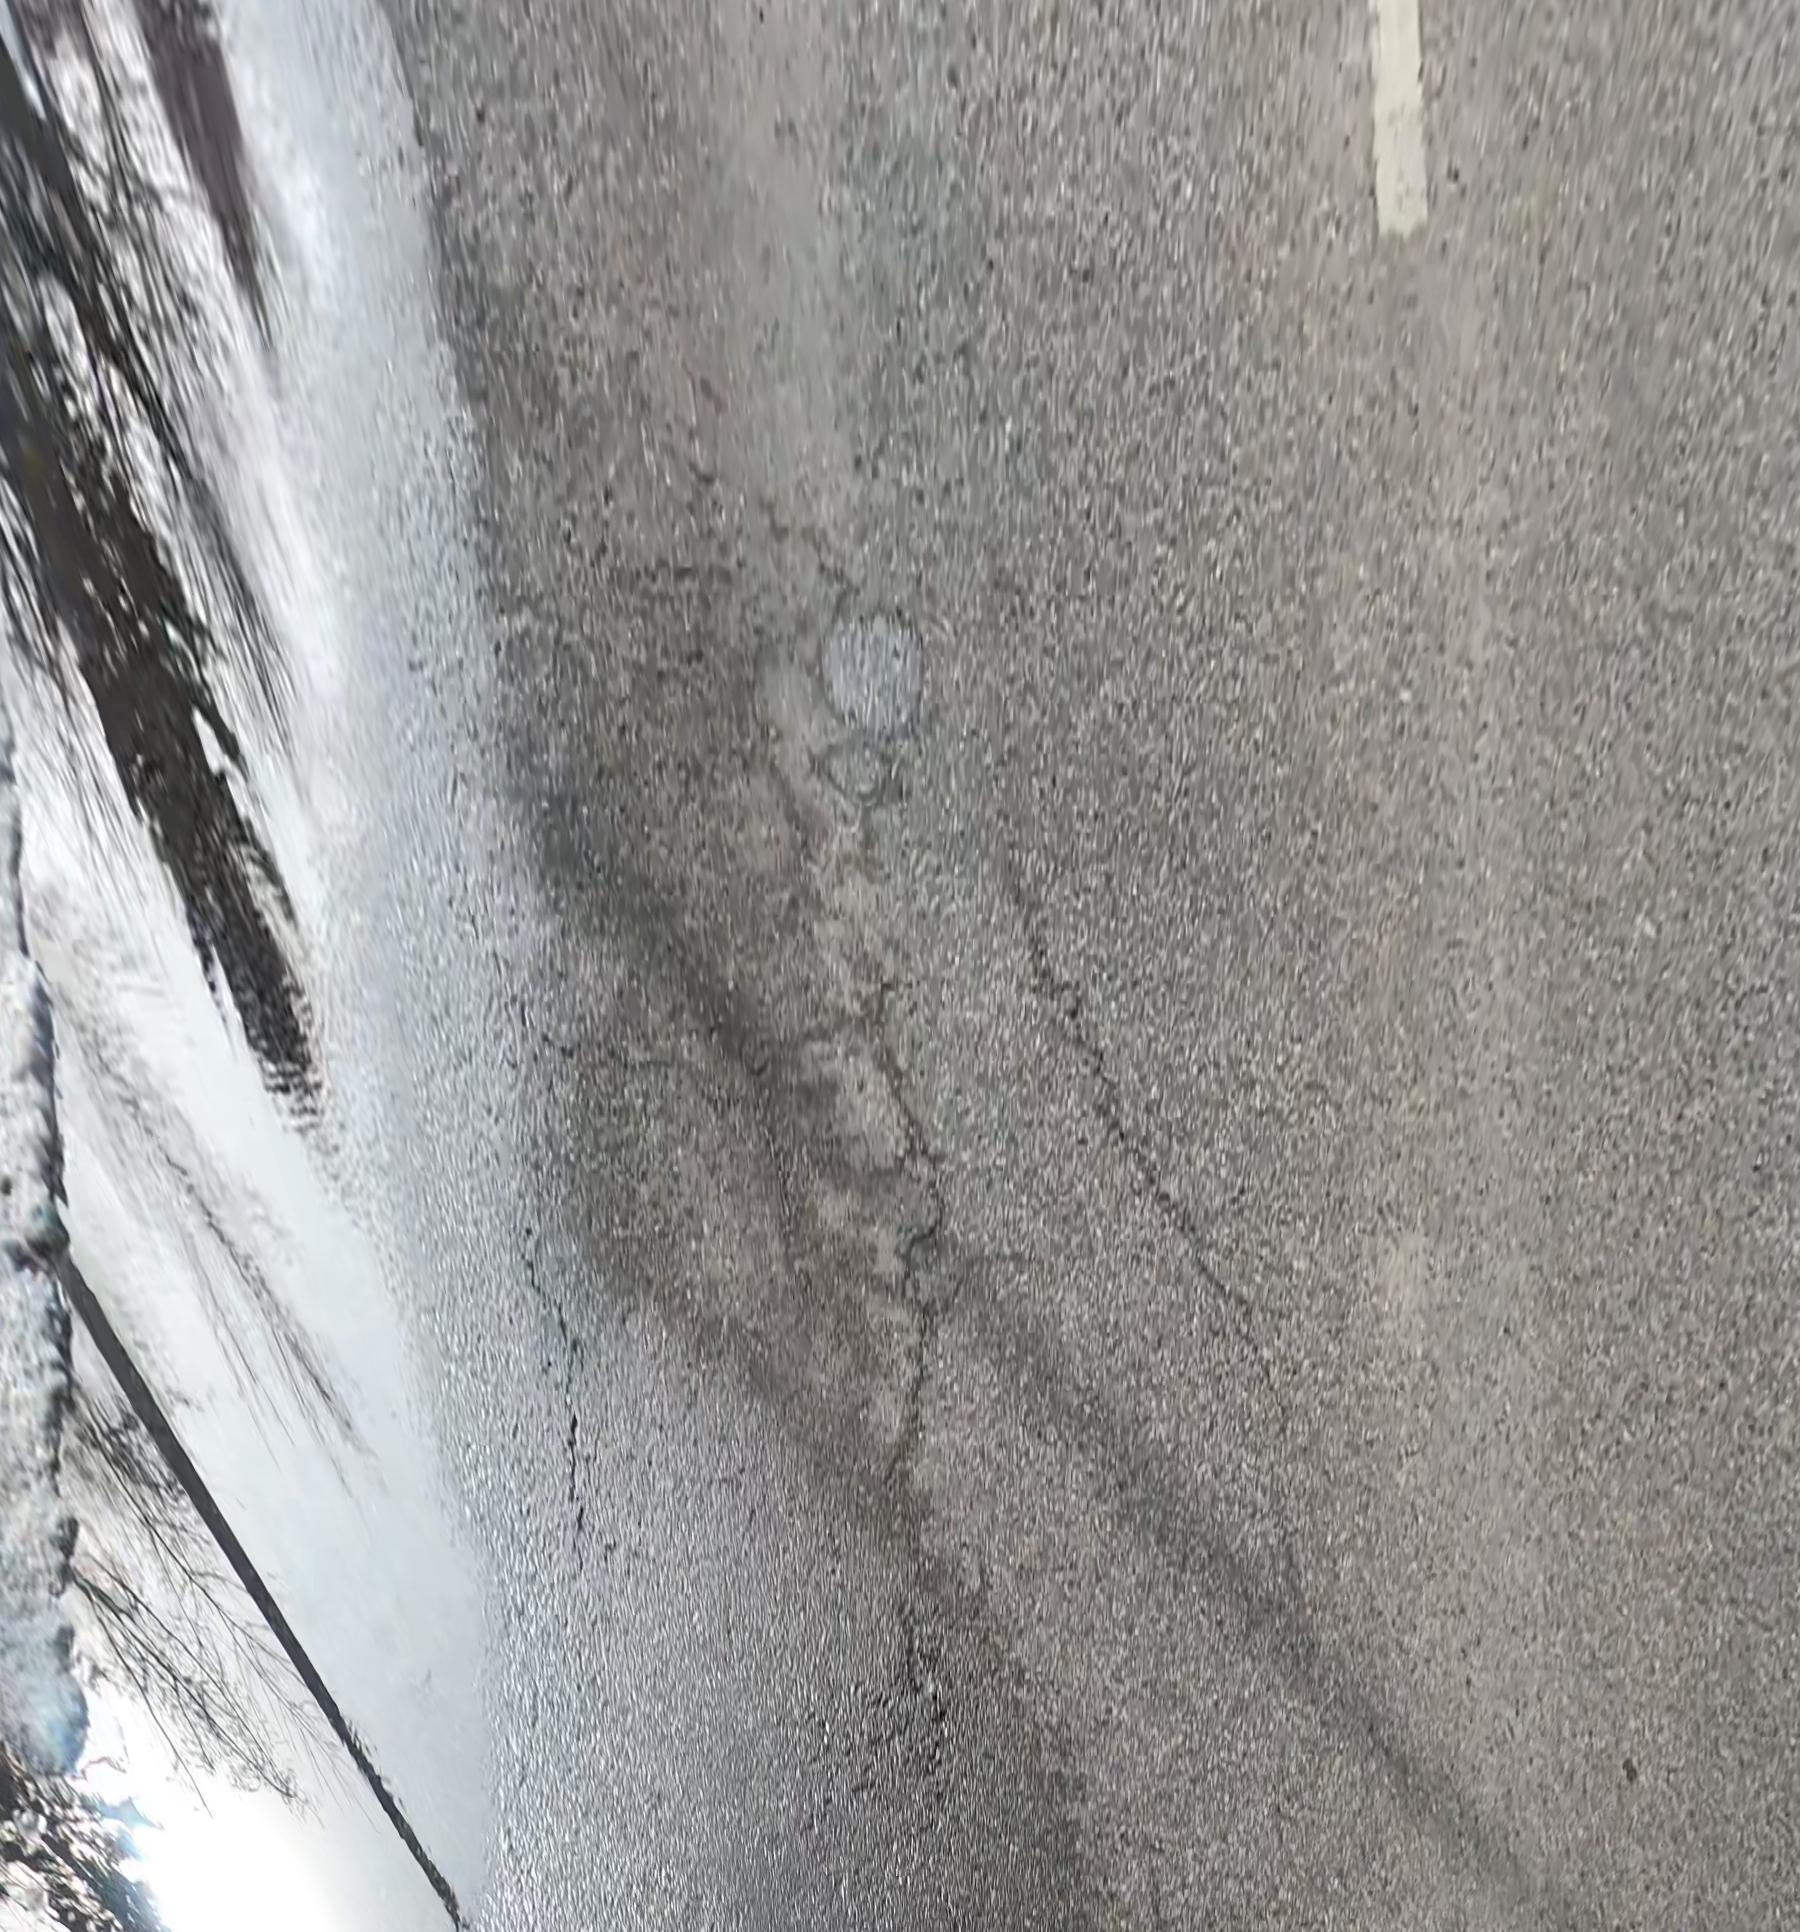pothole: (822, 612, 920, 739)
